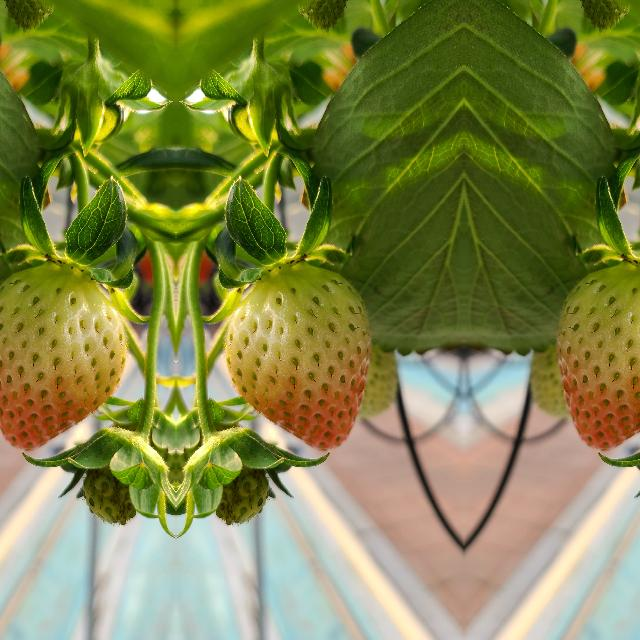Health_50: (222, 264, 372, 451), (0, 263, 128, 450), (553, 263, 640, 450)
